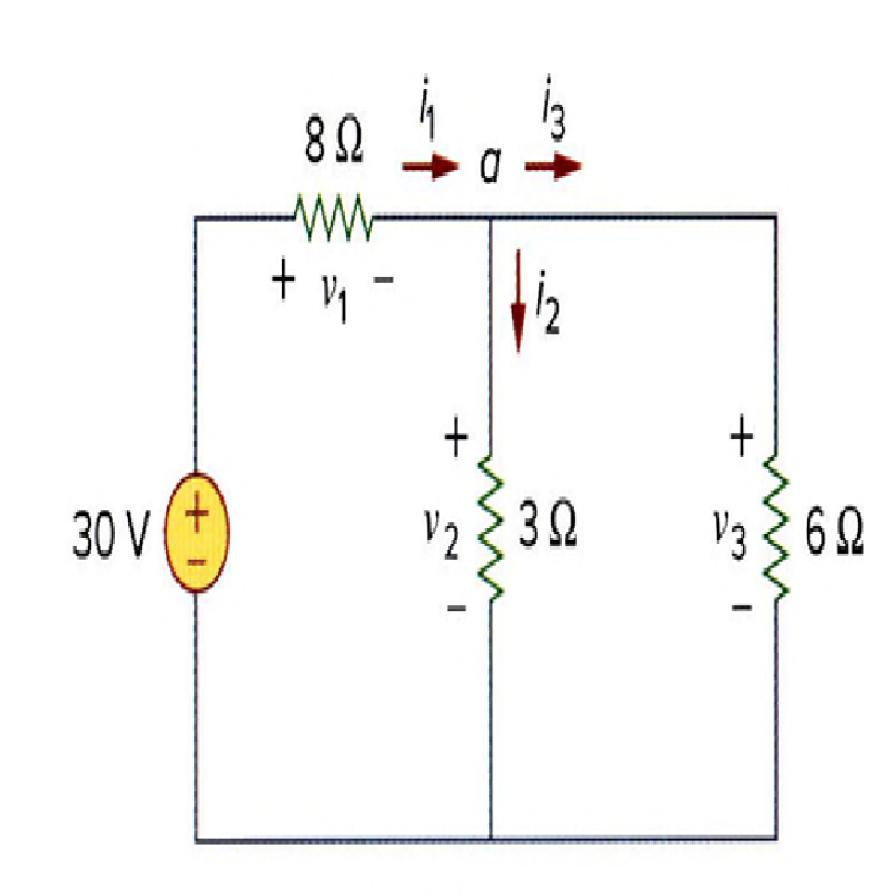V1: (159, 452, 231, 601)
